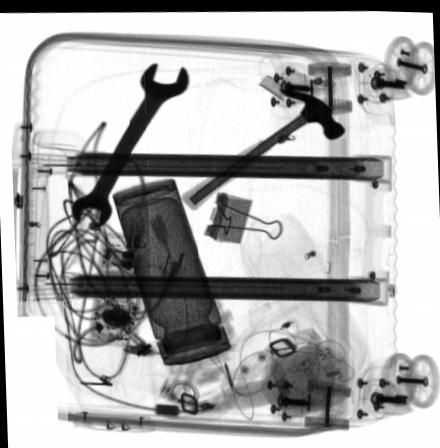Hammer: (180, 85, 347, 208)
Wrench: (71, 58, 187, 225)
